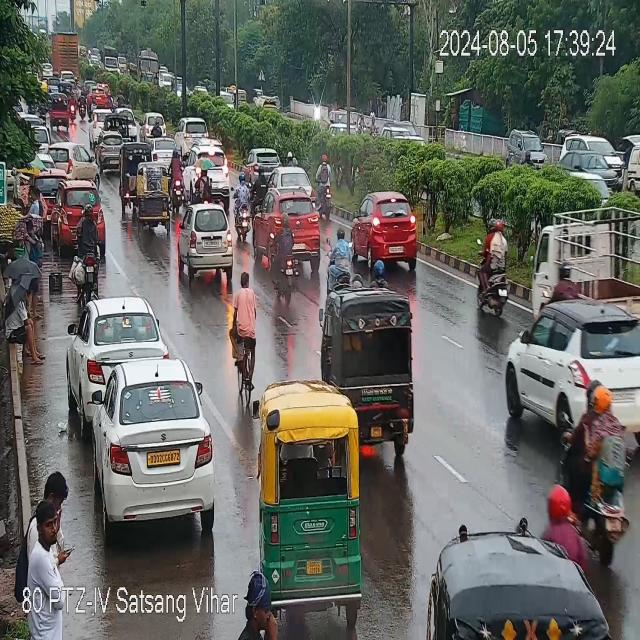2-wheelers: (574, 361, 631, 543), (538, 480, 596, 560), (474, 217, 516, 318), (235, 264, 259, 402), (270, 211, 296, 308), (72, 208, 105, 281), (327, 224, 353, 282), (317, 148, 333, 217), (235, 171, 252, 234), (247, 164, 268, 204), (170, 148, 184, 208), (193, 165, 214, 198), (152, 116, 161, 136), (287, 148, 293, 162)
auto: (244, 372, 369, 640), (424, 530, 595, 640), (321, 287, 418, 408), (138, 160, 167, 230), (120, 142, 149, 203), (106, 110, 130, 135)
car: (91, 358, 216, 524), (506, 303, 640, 433), (72, 295, 163, 397), (504, 297, 636, 357), (351, 188, 420, 270), (179, 204, 237, 283), (256, 189, 318, 258), (52, 180, 104, 248), (50, 138, 100, 177), (98, 132, 125, 174), (210, 143, 232, 189), (247, 148, 283, 172), (176, 118, 198, 155), (88, 105, 106, 142), (137, 110, 152, 135)
pedestrian: (5, 301, 42, 371), (27, 498, 61, 570), (245, 581, 280, 639), (37, 464, 67, 504), (26, 187, 46, 245), (372, 262, 388, 286)
truck: (530, 212, 636, 312)
